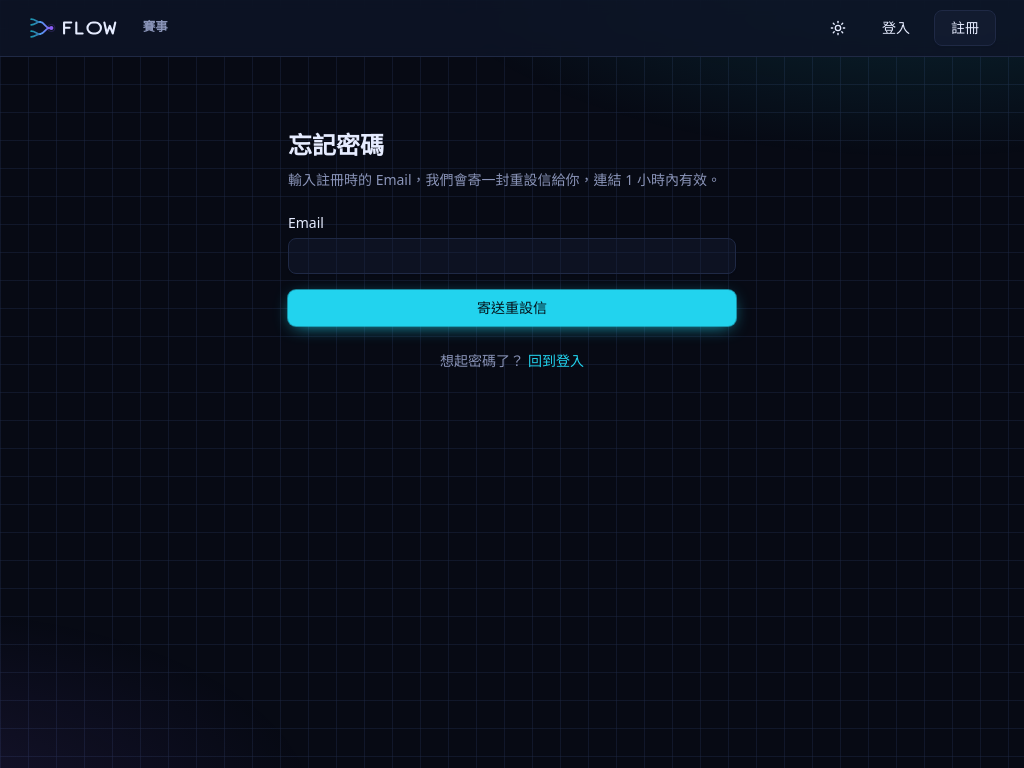
Scenario: S8 忘記密碼 › 伺服器錯誤：表單頂部顯示錯誤，不顯示成功訊息
Step 1. Type "an@example.com" into the field labelled "Email" → coordinates (512, 256), box [288, 238, 736, 274]
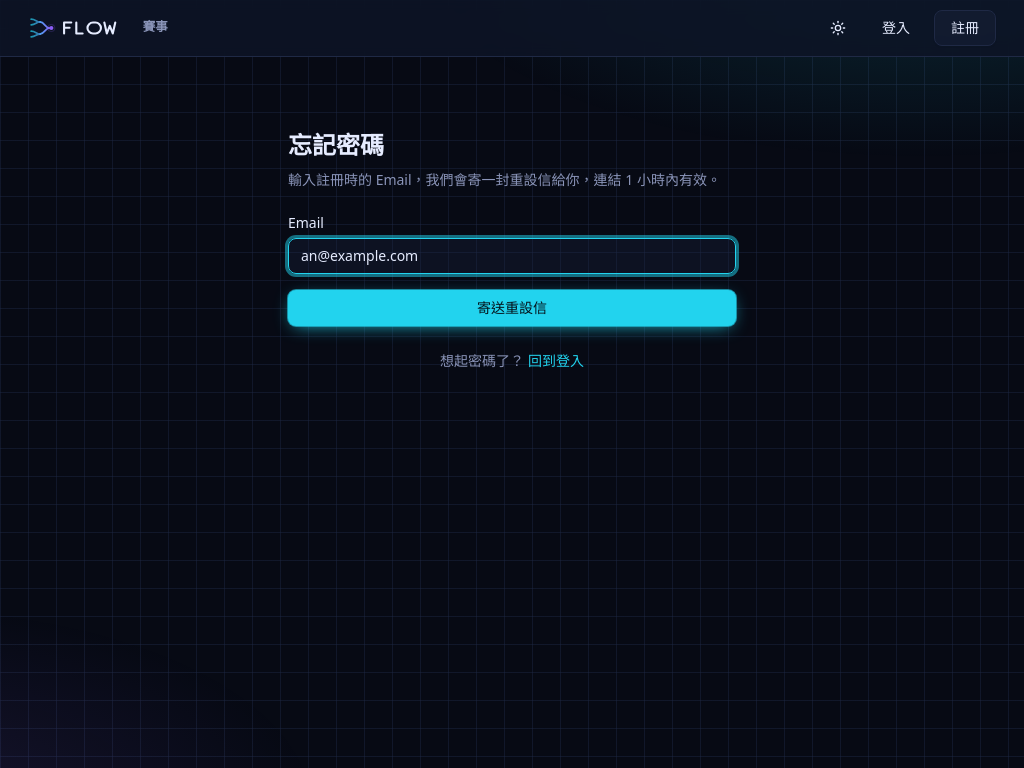
Step 2. Click the button "寄送重設信" → coordinates (512, 308), box [288, 290, 736, 326]
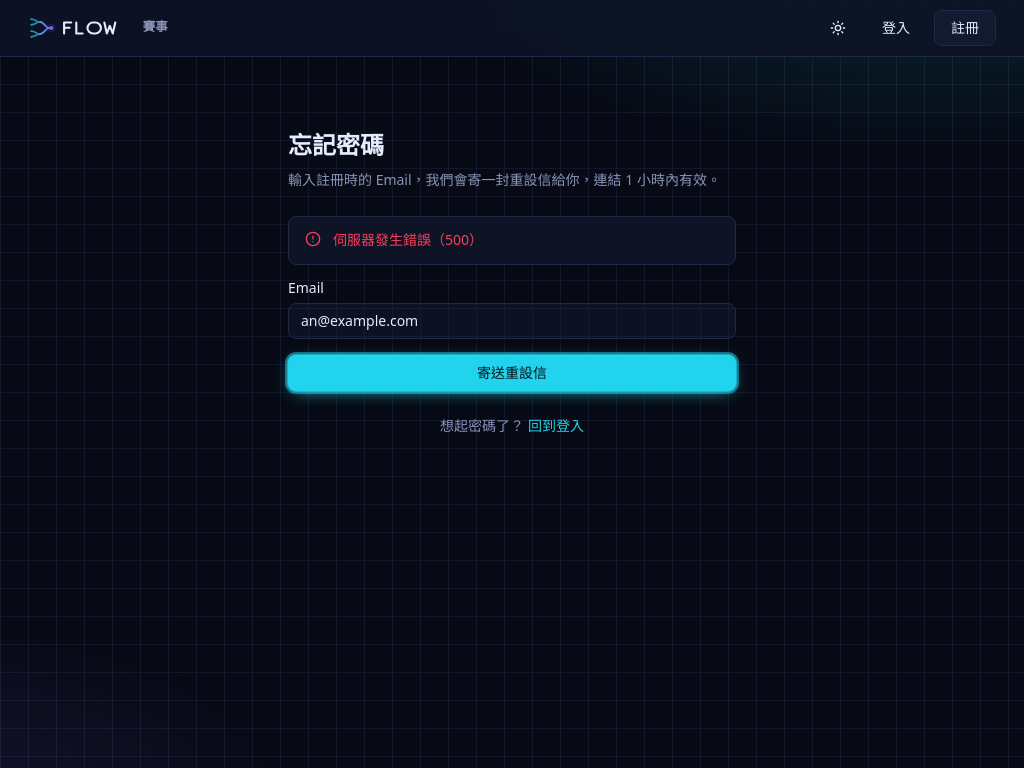
Expected: the text "伺服器發生錯誤（500）" is shown, [333, 229, 483, 252]
